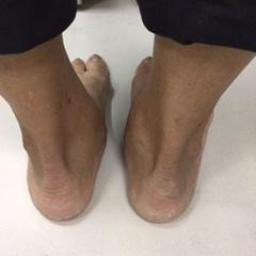Back View -Both Feet-: (9, 40, 240, 230)
